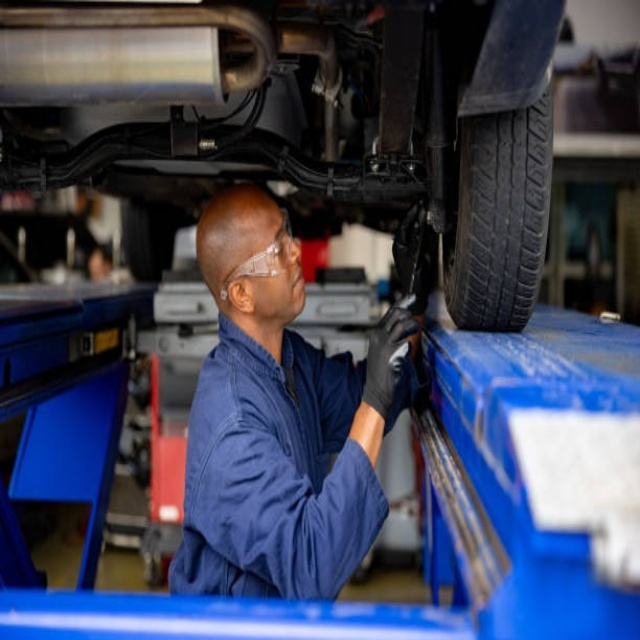Gafas: (220, 207, 291, 300)
Guantes: (361, 302, 418, 418)
Sin_mascara: (283, 264, 306, 309)
